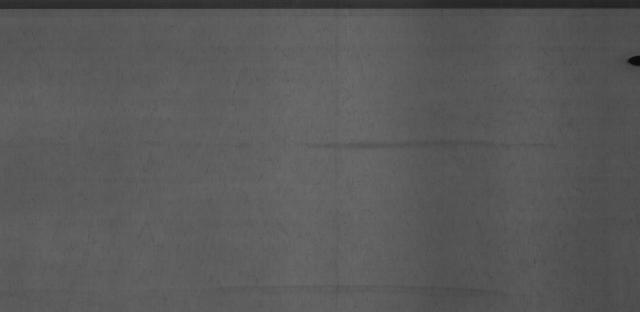punching_hole: (621, 48, 640, 67)
welding_line: (2, 2, 640, 19)
